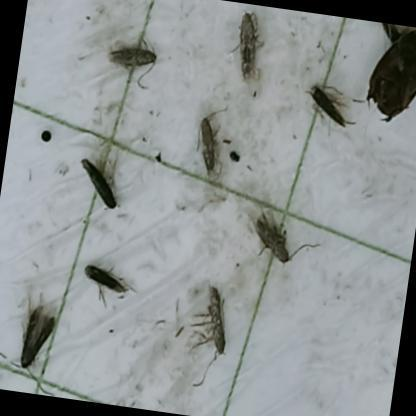prays_oleae: (236, 188, 312, 284), (1, 283, 64, 396), (181, 286, 240, 386), (176, 99, 232, 194), (64, 138, 131, 216), (70, 255, 148, 321), (296, 68, 360, 141), (99, 26, 173, 89), (222, 2, 270, 96)
